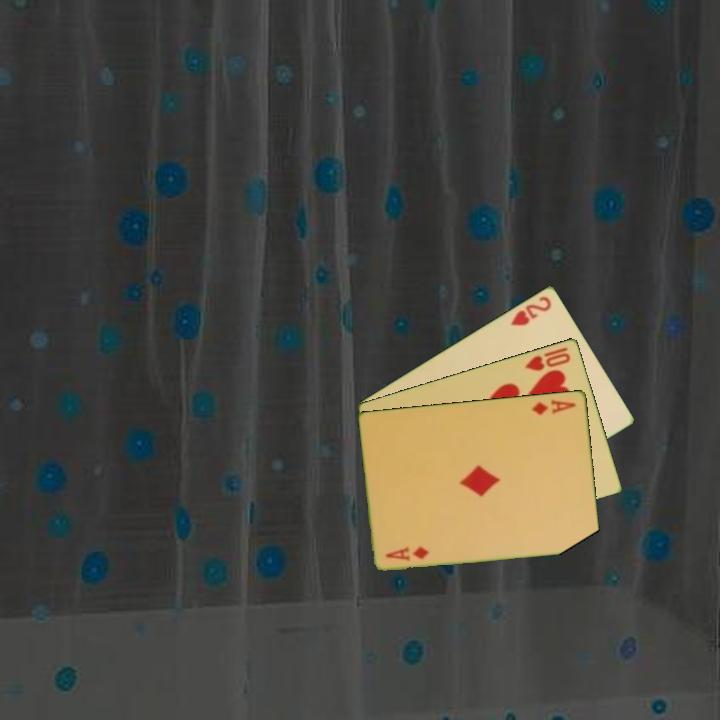10h: (522, 349, 573, 373)
2h: (507, 292, 554, 328)
Ad: (528, 395, 579, 418), (382, 542, 432, 564)
